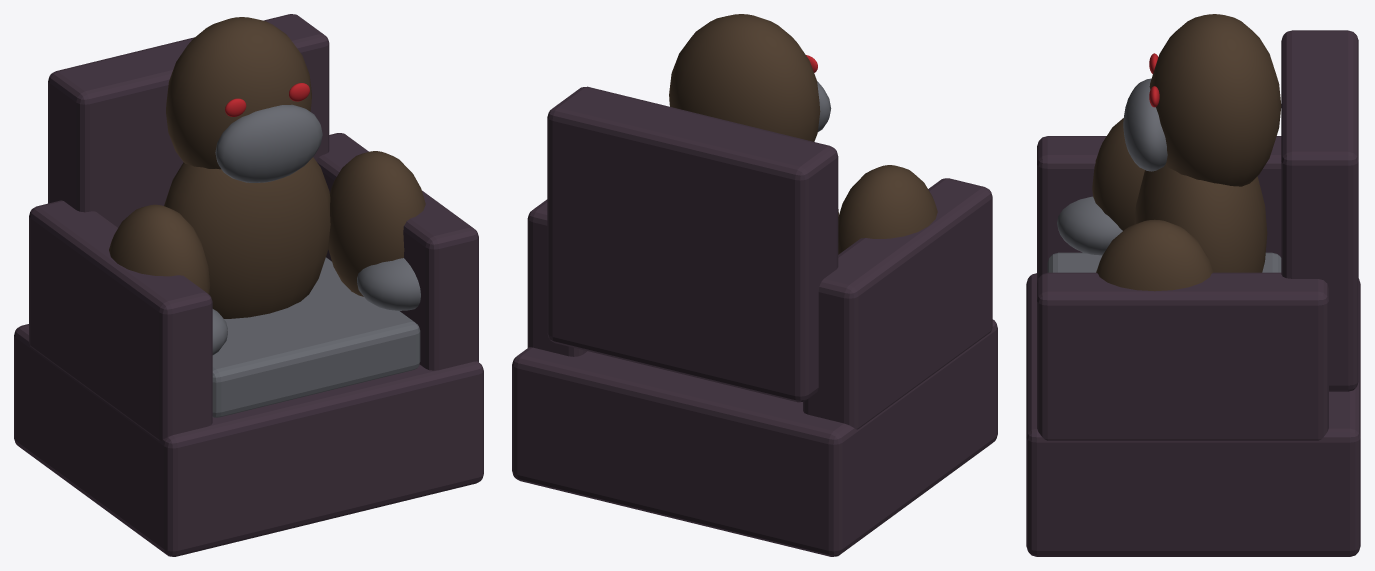
File: best.glb
3 renders of one model, left to right at view 1: azimuth 30°, elevation 25°; view 2: azimuth 150°, elevation 25°; view 3: azimuth 270°, elevation 25°, orthographic. The views are drawn at different scales.
Parts seen in each view (by area): view 1: Armchair base, Gorilla arm, Gorilla muzzle, Eye; view 2: Armchair base, Gorilla arm; view 3: Armchair base, Gorilla arm, Gorilla muzzle.
Boxes of the visible parts, <box> form: Armchair base: <box>14,14,483,556</box>; Gorilla arm: <box>109,17,425,318</box>; Gorilla muzzle: <box>212,104,420,417</box>; Eye: <box>225,83,309,116</box>; Armchair base: <box>512,86,997,556</box>; Gorilla arm: <box>669,14,937,254</box>; Armchair base: <box>1026,30,1360,556</box>; Gorilla arm: <box>1092,14,1281,291</box>; Gorilla muzzle: <box>1047,78,1281,272</box>.
Bounding box in the file's own units: 1 × 1.31 × 0.8636.
